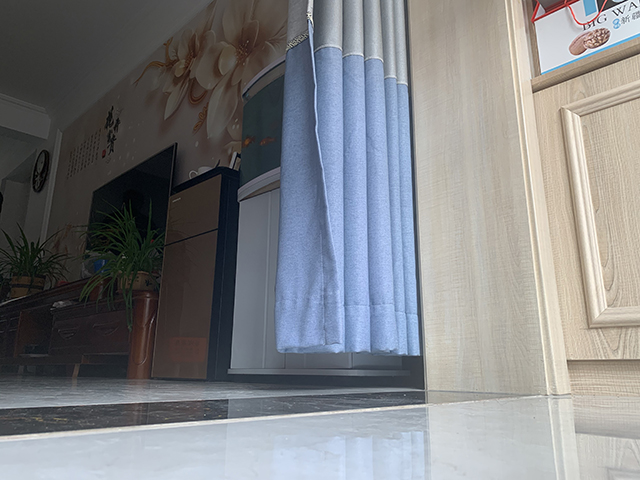cabinet: (148, 164, 239, 383), (1, 270, 161, 380)
curtain: (272, 1, 407, 359)
